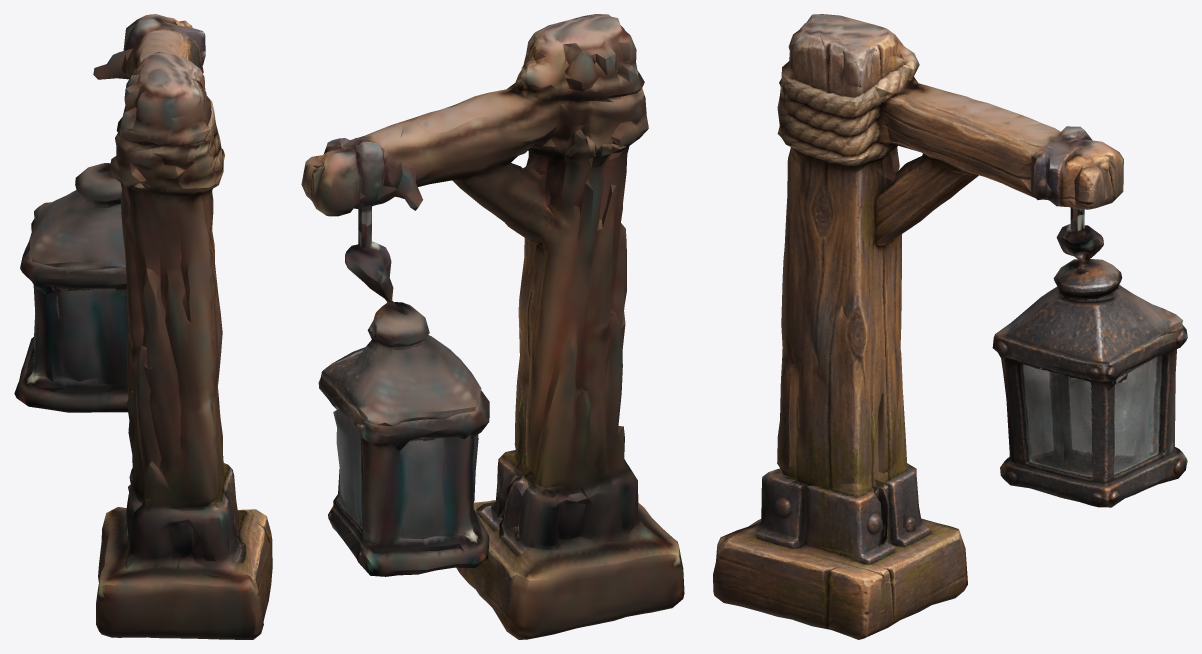
The model's file is lantern_tsr.glb.
3 views of the same model, side by side, from view 1: azimuth 30°, elevation 25°; view 2: azimuth 150°, elevation 25°; view 3: azimuth 270°, elevation 25° (orthographic). The views are drawn at different scales.
Visible parts, largest first — view 1: LanternTSR; view 2: LanternTSR; view 3: LanternTSR.
Boxes of the visible parts, x1,y1,x2,y2 form: LanternTSR: (14,14,272,639); LanternTSR: (301,14,684,639); LanternTSR: (713,14,1187,639).
Bounding box in the file's own units: 1.07 × 2.45 × 1.83.
Materials: 1 (1 with a texture image).
